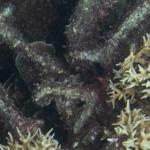dead: (1, 3, 147, 148)
